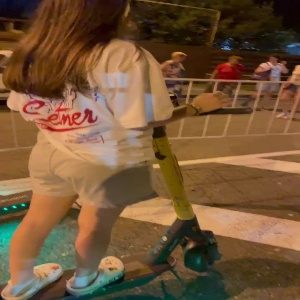human on a scooter: (1, 1, 255, 300)
